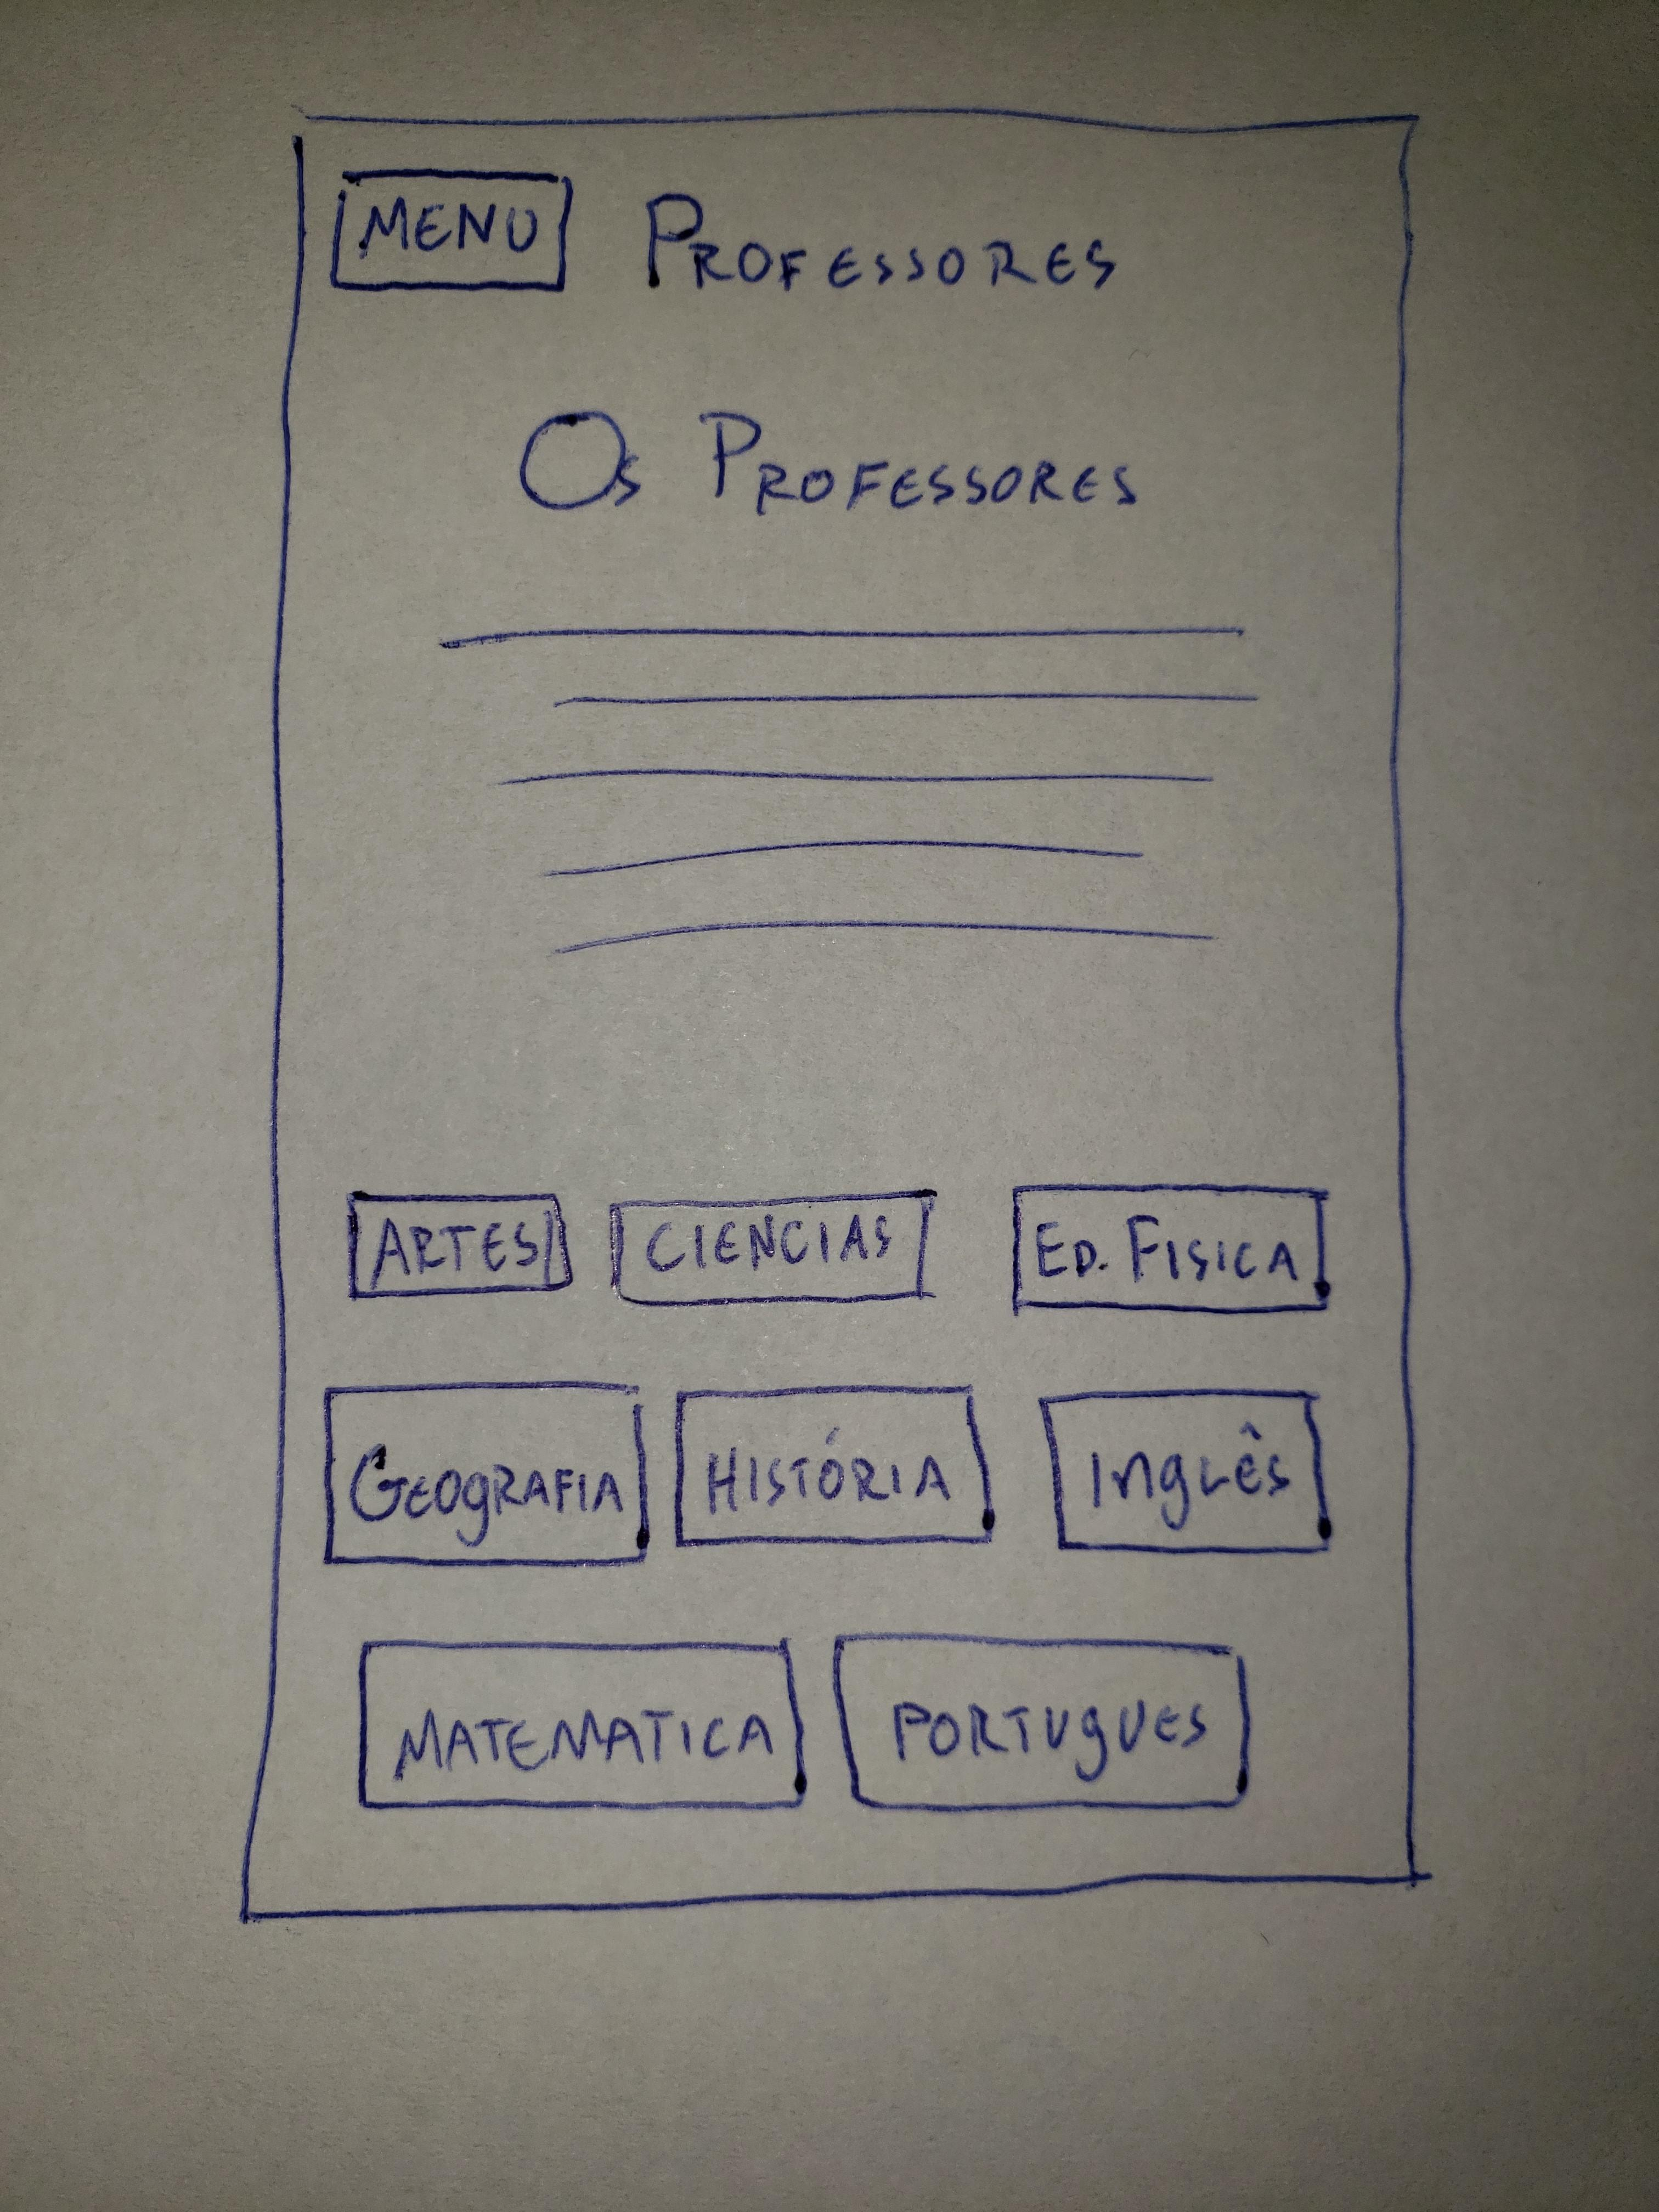Button: (357, 1641, 809, 1811), (833, 1634, 1251, 1813), (321, 1381, 650, 1566), (674, 1385, 993, 1548), (1037, 1388, 1331, 1557), (610, 1191, 939, 1310), (1012, 1188, 1324, 1312), (329, 171, 573, 293), (347, 1193, 572, 1298)
Label: (439, 618, 1263, 958), (521, 406, 1138, 514), (645, 195, 1115, 294)
Screen: (242, 108, 1417, 1919)
